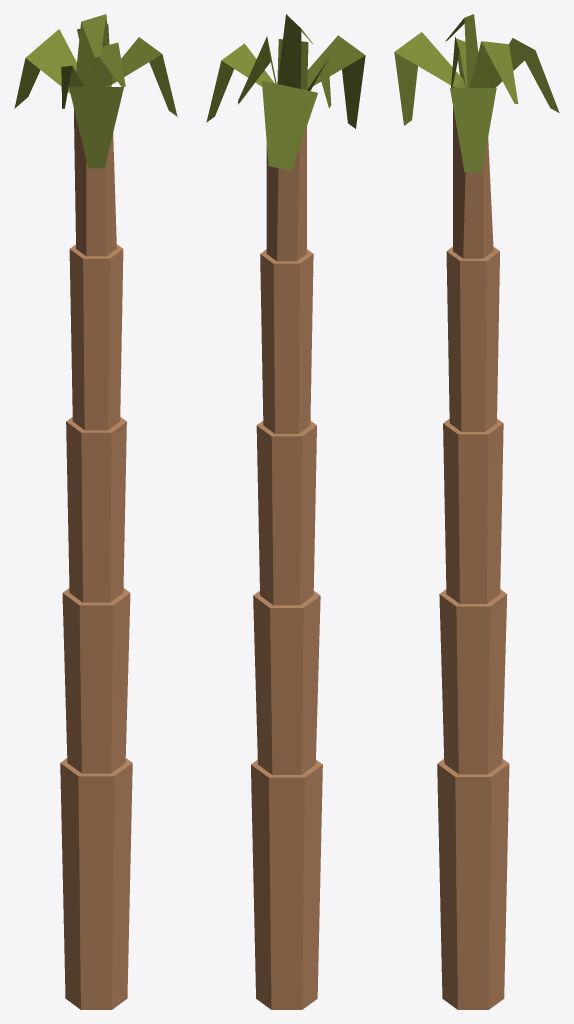
File: sugarCane.fbx
The picture shows the model from 3 angles, left to right: view 1: azimuth 30°, elevation 25°; view 2: azimuth 150°, elevation 25°; view 3: azimuth 270°, elevation 25°; orthographic projection.
Parts seen in each view (by area): view 1: Cylinder; view 2: Cylinder; view 3: Cylinder.
Part boxes in pixels (x1,y1,x2,y2): Cylinder: (14, 14, 177, 1009); Cylinder: (206, 14, 365, 1009); Cylinder: (394, 14, 559, 1009).
Bounding box in the file's own units: 85.28 × 618 × 94.16.
